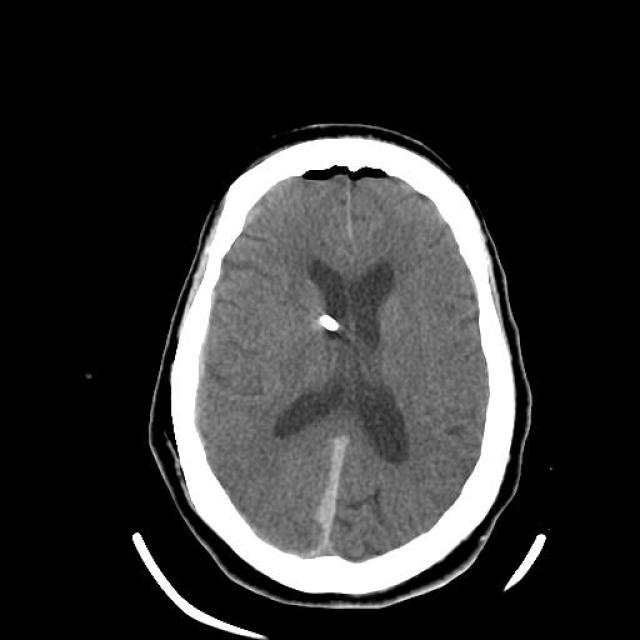Subdural: (289, 424, 369, 576)
